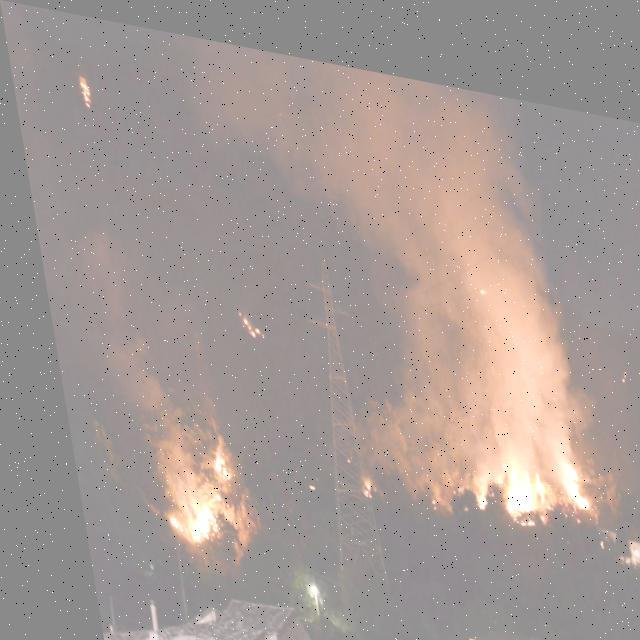Fire: (403, 403, 582, 522), (138, 422, 228, 544), (226, 300, 258, 338), (73, 64, 94, 110), (342, 457, 360, 486)
